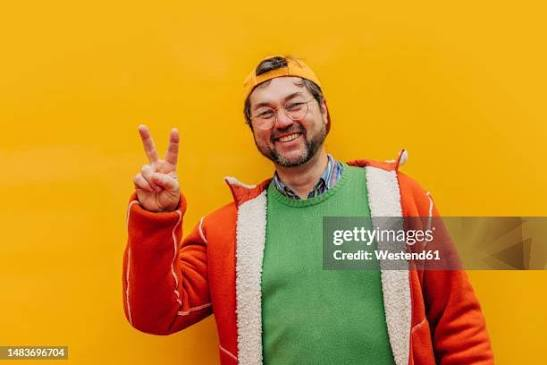peace_sign: (133, 115, 188, 212)
